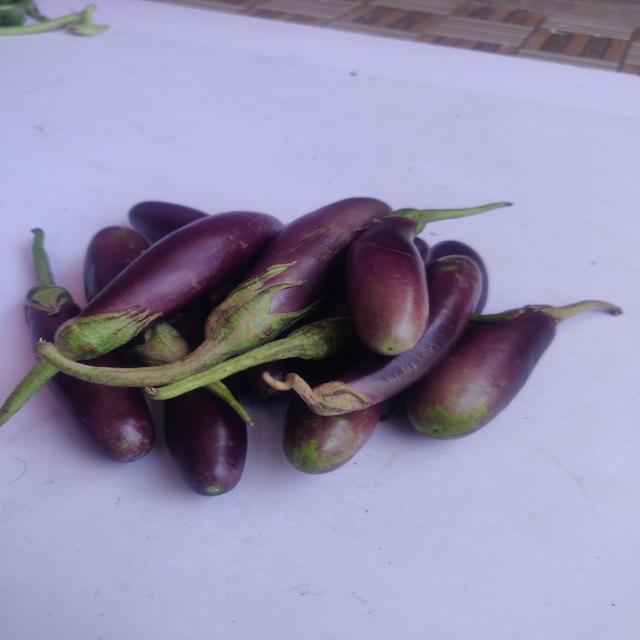Brinjal: (39, 198, 390, 387), (52, 211, 281, 361), (274, 256, 481, 416), (407, 300, 623, 440), (0, 360, 57, 424), (546, 301, 619, 321)
